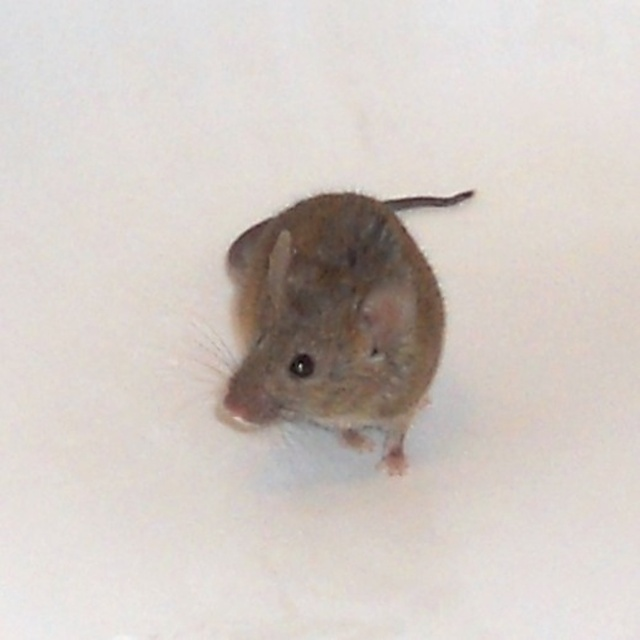Mouse: (165, 182, 472, 477)
